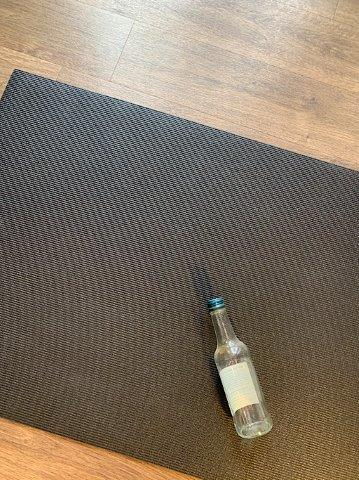botolkaca: (208, 298, 273, 438)
